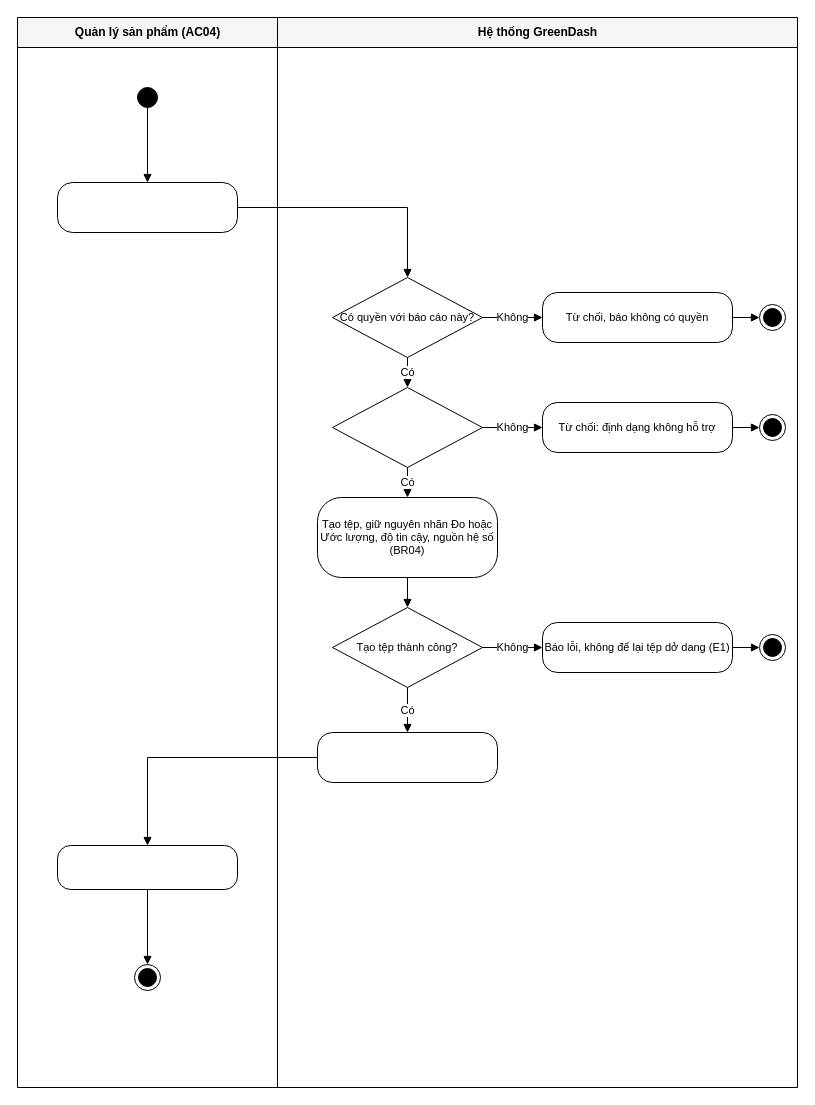
Some shapes in this 815 by 1105 pixel diagram are drawn without their labels. The shapes that lost their labels are listed below. From the top down, each one's box as (x1, y1, x2, y2) in pixels, then its label:
(56, 182, 238, 232): Chọn báo cáo đã lập, chọn định dạng, nhấn Xuất
(332, 386, 482, 468): Định dạng được hỗ trợ (PDF, Excel, CSV)? (A1)
(316, 732, 498, 782): Trả tệp để tải về, ghi nhật ký xuất
(56, 844, 238, 890): Tải tệp về máy
